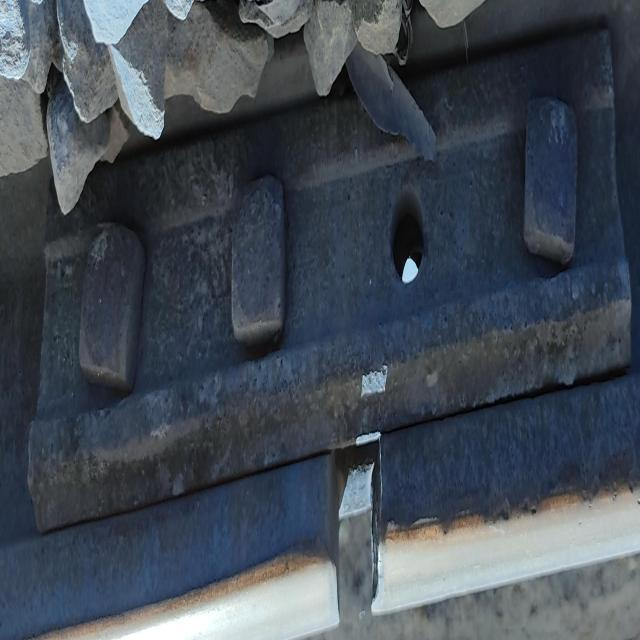broken_rail_medium: (312, 452, 405, 620)
railway_join_bar_defects_low: (317, 106, 426, 624)
